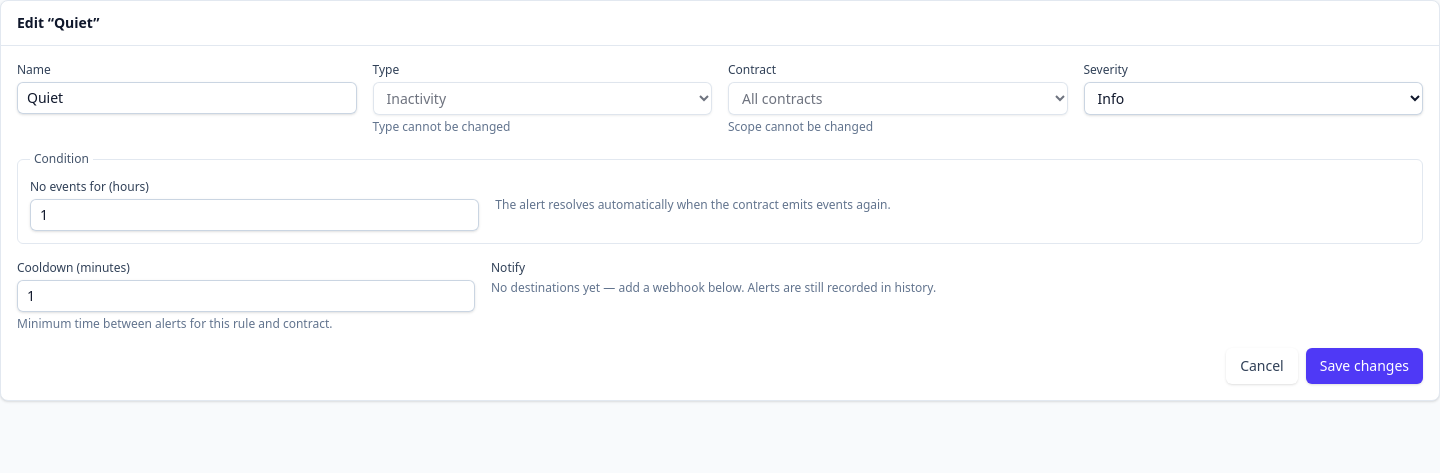
Test: RuleForm › edits with PATCH and shows API errors without closing
Expected: the dropdown labelled "Type" is disabled, [372,82,712,115]
Click the button "Save changes": coordinates (1364, 366) [1306,348,1423,384]
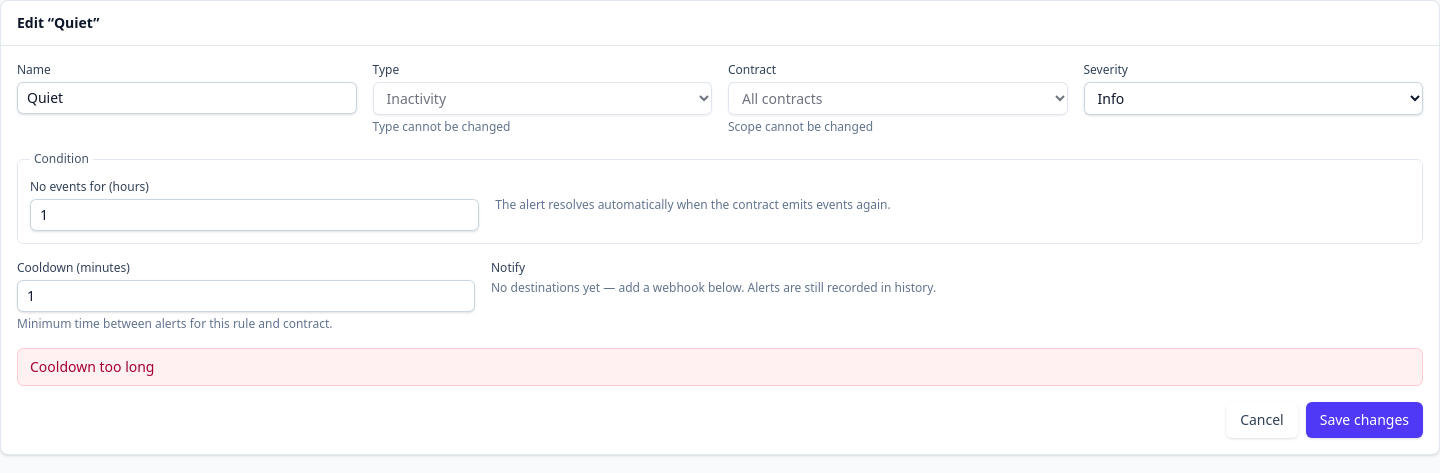
Expected: the text "Cooldown too long" is shown, [30,357,154,376]
